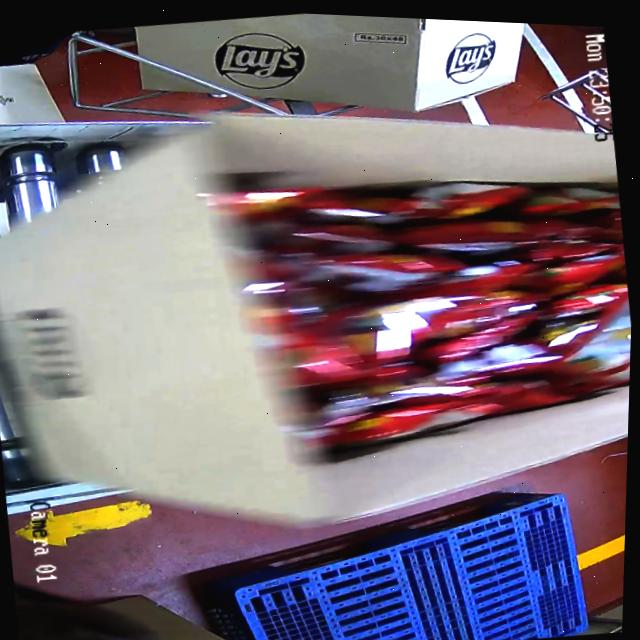MASALA: (232, 148, 636, 460)
